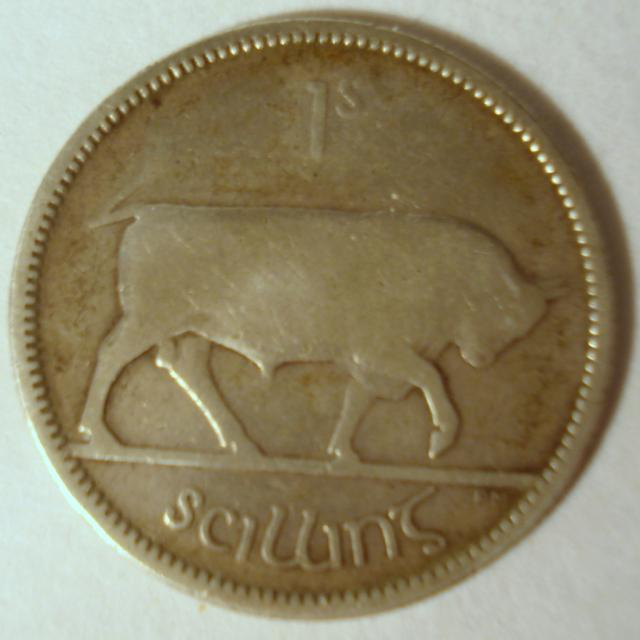Coin: (5, 14, 619, 618)
